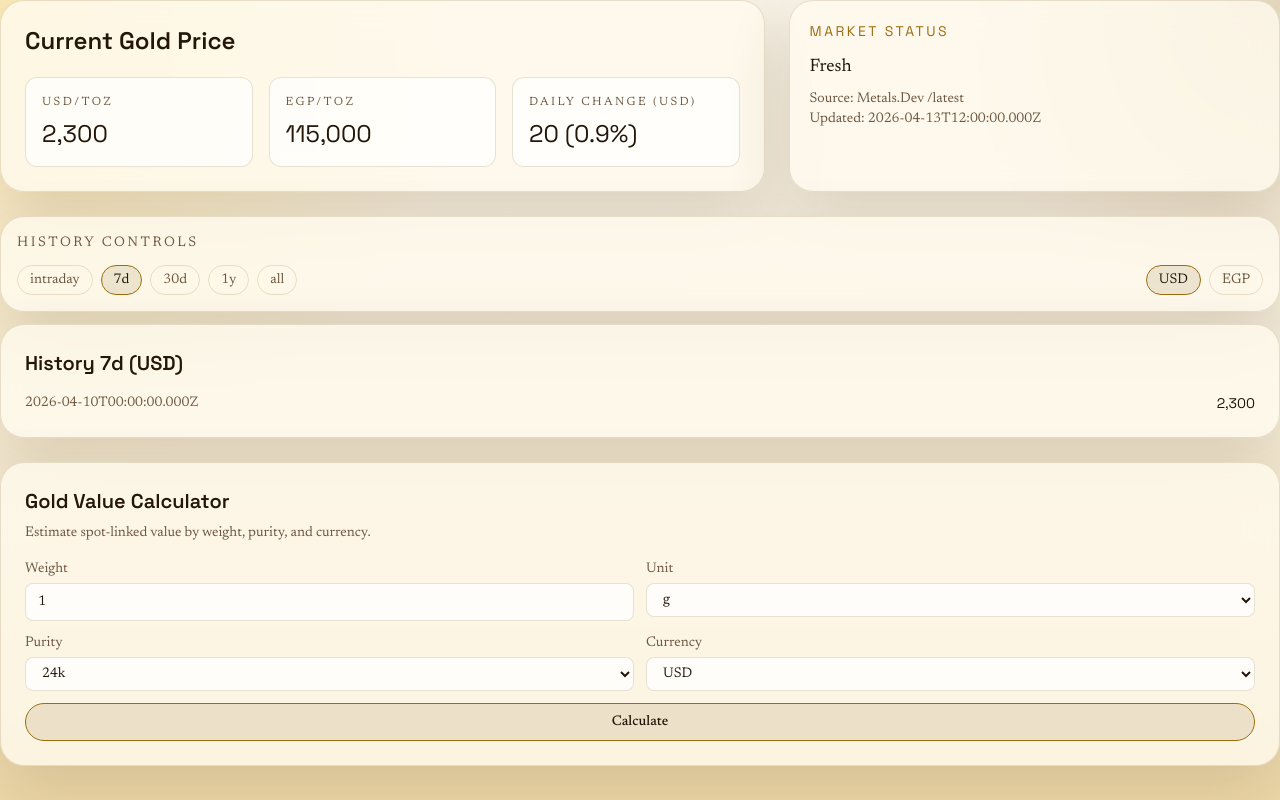
Test: release smoke › renders dashboard, history, and calculator flow
Expected: the heading "Current Gold Price" is shown, x1=25 y1=25 x2=236 y2=56
Expected: the heading "History 7d (USD)" is shown, x1=25 y1=350 x2=183 y2=376
Replace the text in the number field labelled "Weight" with "5" at coordinates (330, 602), box x1=25 y1=583 x2=634 y2=621
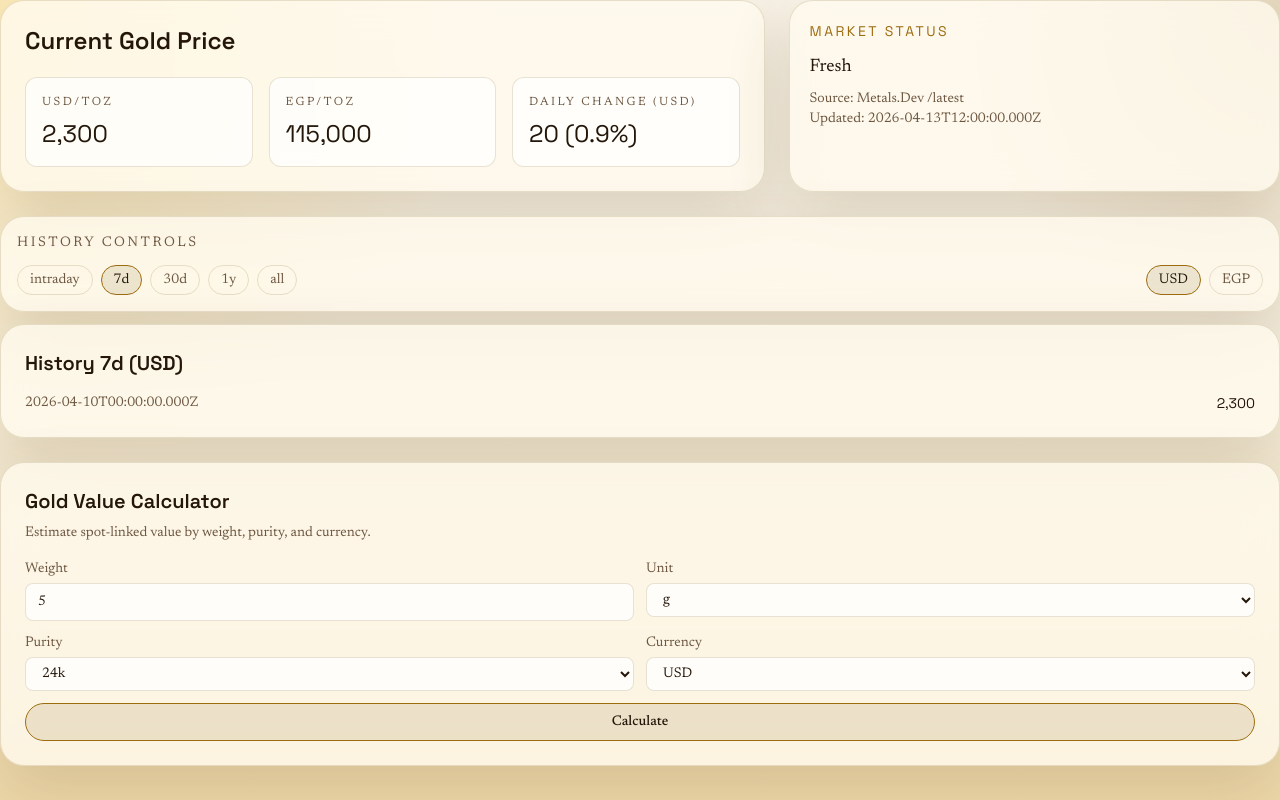
Click the button "Calculate" at coordinates (640, 722), box x1=25 y1=703 x2=1255 y2=741
(page scrolled)
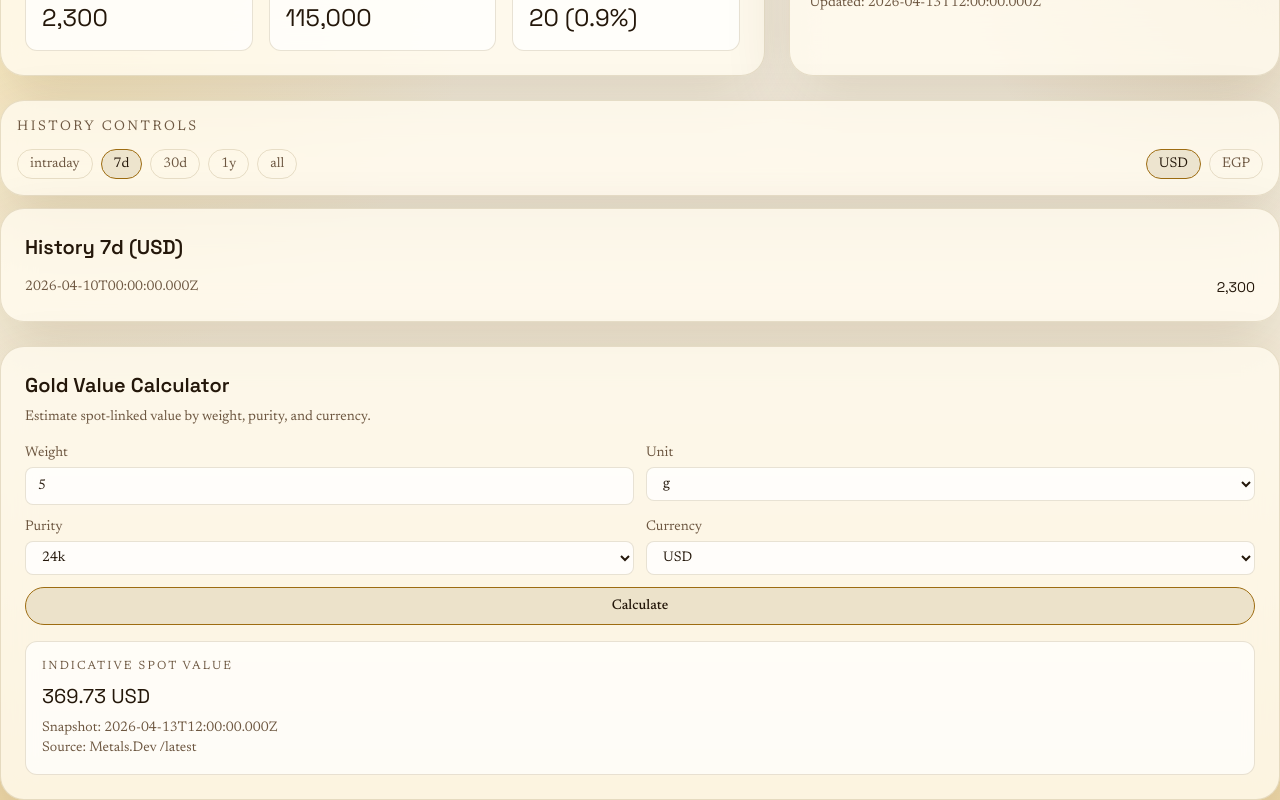
Expected: the text "Indicative Spot Value" is shown, x1=42 y1=660 x2=233 y2=672
Expected: the text "369.73 USD" is shown, x1=42 y1=683 x2=150 y2=709
